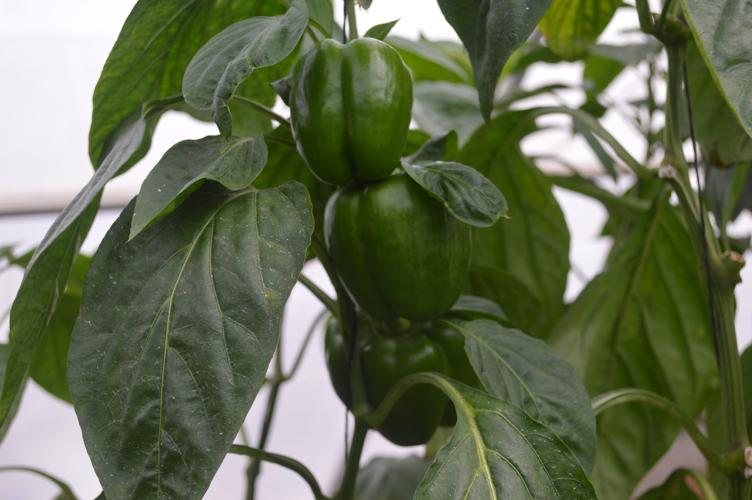BellPepper: (322, 178, 473, 322), (285, 38, 415, 182), (326, 318, 473, 444)
